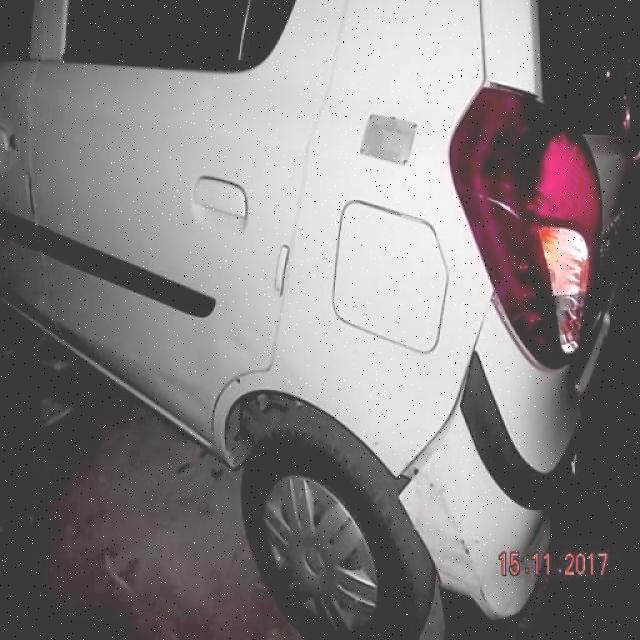car damage: (417, 480, 499, 620), (393, 381, 467, 507), (147, 361, 214, 424), (222, 318, 277, 369)
